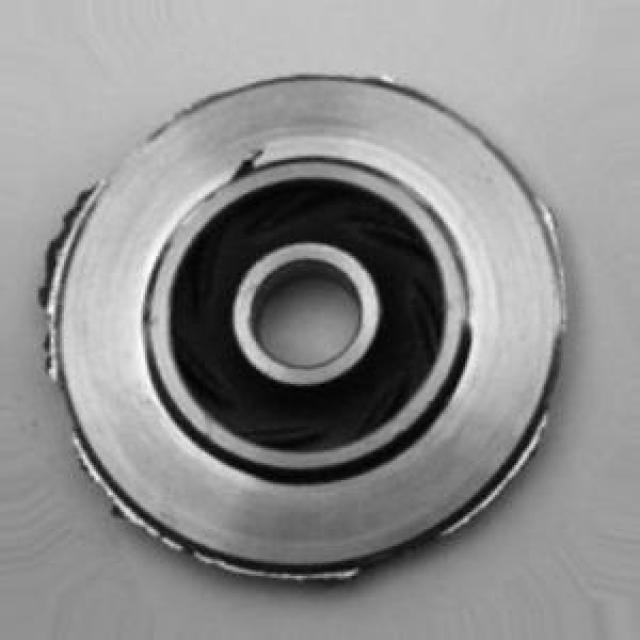Defect: (229, 145, 264, 178)
